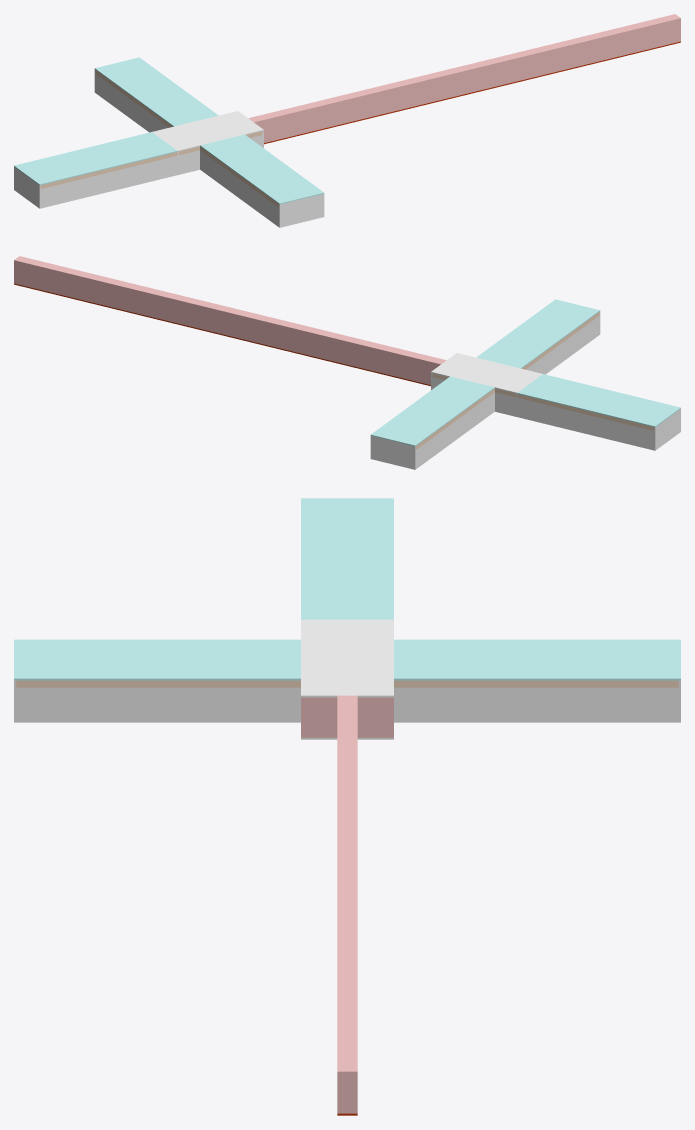
Rendered from Outro.fbx.
3 renders of one model, top to bottom at view 1: azimuth 30°, elevation 25°; view 2: azimuth 150°, elevation 25°; view 3: azimuth 270°, elevation 25°, orthographic. The views are drawn at different scales.
Visible parts, largest first — view 1: Group97, Group33, Group61, Group5, Group96, wall3, Group87, wall6, wall1, Group57, Group95, Group32 (+4 smaller); view 2: Group98, Group33, Group5, Group61, Group96, wall4, Group87, wall1, wall6, Group1, Group95, Group32 (+4 smaller); view 3: Group5, Group61, Group33, wall2, wall5, Group96, Group87, gameRoom_1_1, Group4, Group60.
Boxes of the visible parts, left/top/right/bottom form: Group97: left=255, top=19, right=679, bottom=142; Group33: left=14, top=132, right=177, bottom=185; Group61: left=200, top=134, right=324, bottom=204; Group5: left=94, top=57, right=218, bottom=126; Group96: left=248, top=14, right=680, bottom=122; wall3: left=40, top=157, right=177, bottom=207; Group87: left=152, top=111, right=263, bottom=151; wall6: left=200, top=151, right=278, bottom=225; wall1: left=95, top=75, right=167, bottom=132; Group57: left=279, top=194, right=324, bottom=226; Group95: left=264, top=41, right=680, bottom=144; Group32: left=40, top=152, right=177, bottom=188; Group98: left=15, top=261, right=439, bottom=384; Group33: left=517, top=374, right=680, bottom=427; Group5: left=370, top=376, right=494, bottom=446; Group61: left=476, top=299, right=600, bottom=368; Group96: left=14, top=256, right=446, bottom=364; wall4: left=517, top=399, right=654, bottom=449; Group87: left=431, top=353, right=542, bottom=393; wall1: left=416, top=393, right=494, bottom=467; wall6: left=527, top=317, right=599, bottom=374; Group1: left=370, top=436, right=415, bottom=468; Group95: left=14, top=283, right=430, bottom=386; Group32: left=517, top=394, right=654, bottom=430; Group5: left=394, top=639, right=680, bottom=680; Group61: left=14, top=639, right=300, bottom=680; Group33: left=301, top=498, right=393, bottom=619; wall2: left=394, top=689, right=678, bottom=720; wall5: left=16, top=689, right=300, bottom=720; Group96: left=337, top=695, right=357, bottom=1073; Group87: left=301, top=619, right=393, bottom=697; gameRoom_1_1: left=301, top=697, right=393, bottom=737; Group4: left=394, top=680, right=678, bottom=687; Group60: left=16, top=680, right=300, bottom=687.
Bounding box in the file's own units: 124065 × 4438 × 60996.
